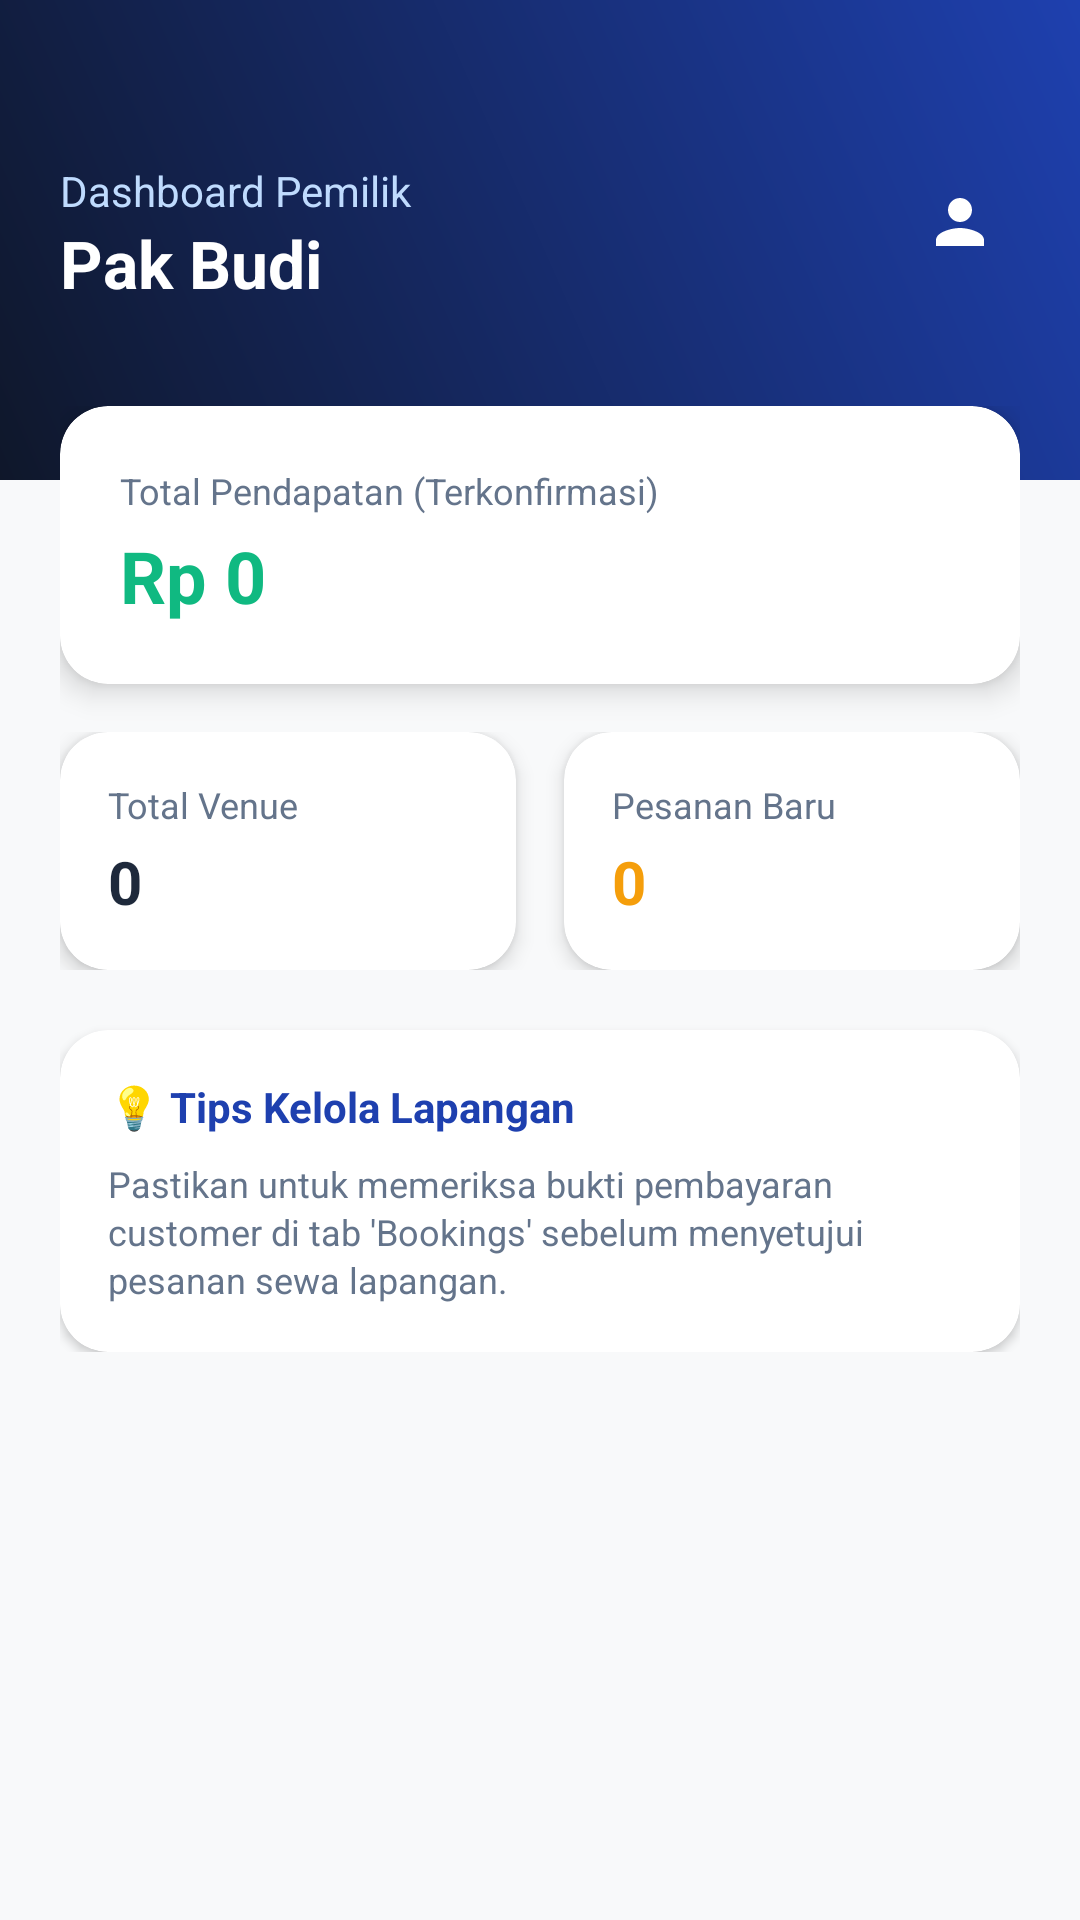

Where icons sit on this 1080 x 1920 app screen, as (x1, y1, x2, y2):
Profil: (936, 198, 984, 246)
